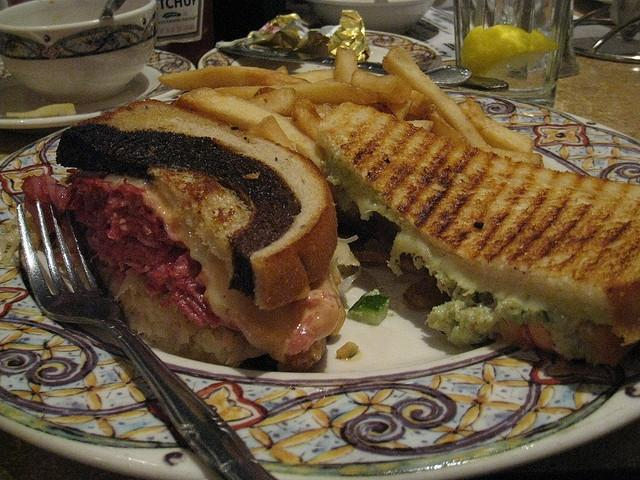lemon: (460, 24, 561, 80)
